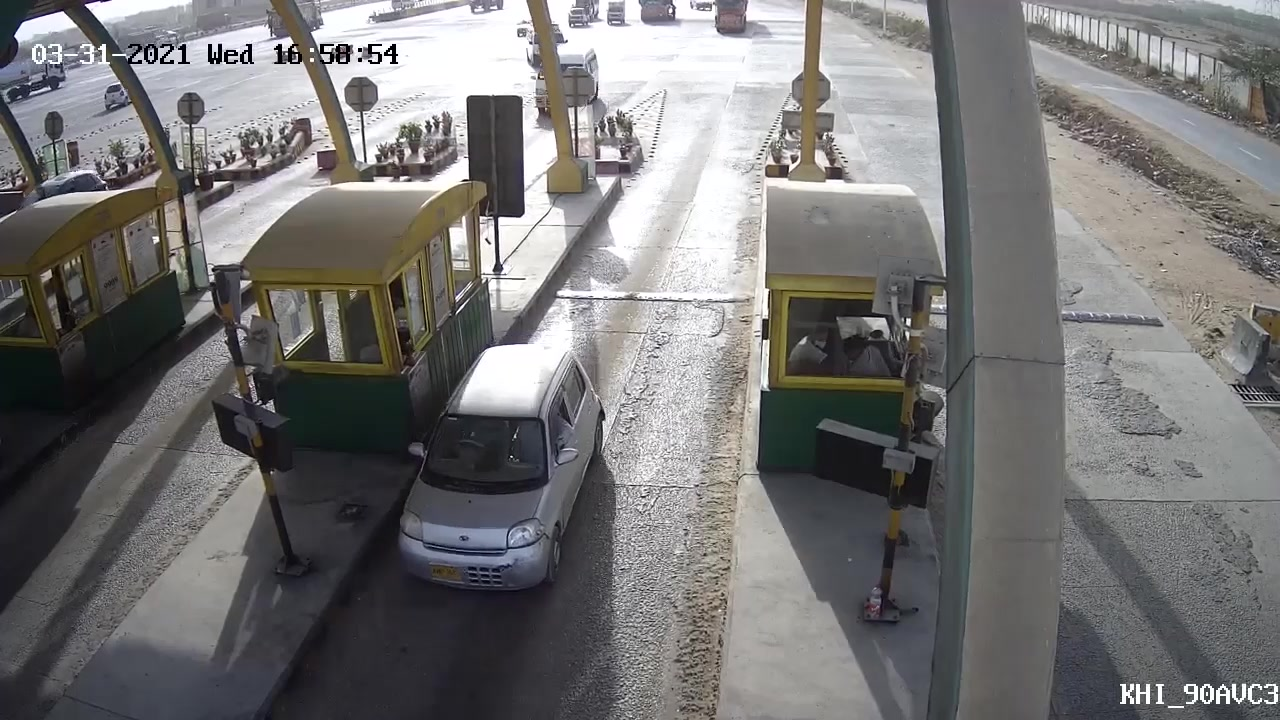F1: (386, 336, 611, 600)
